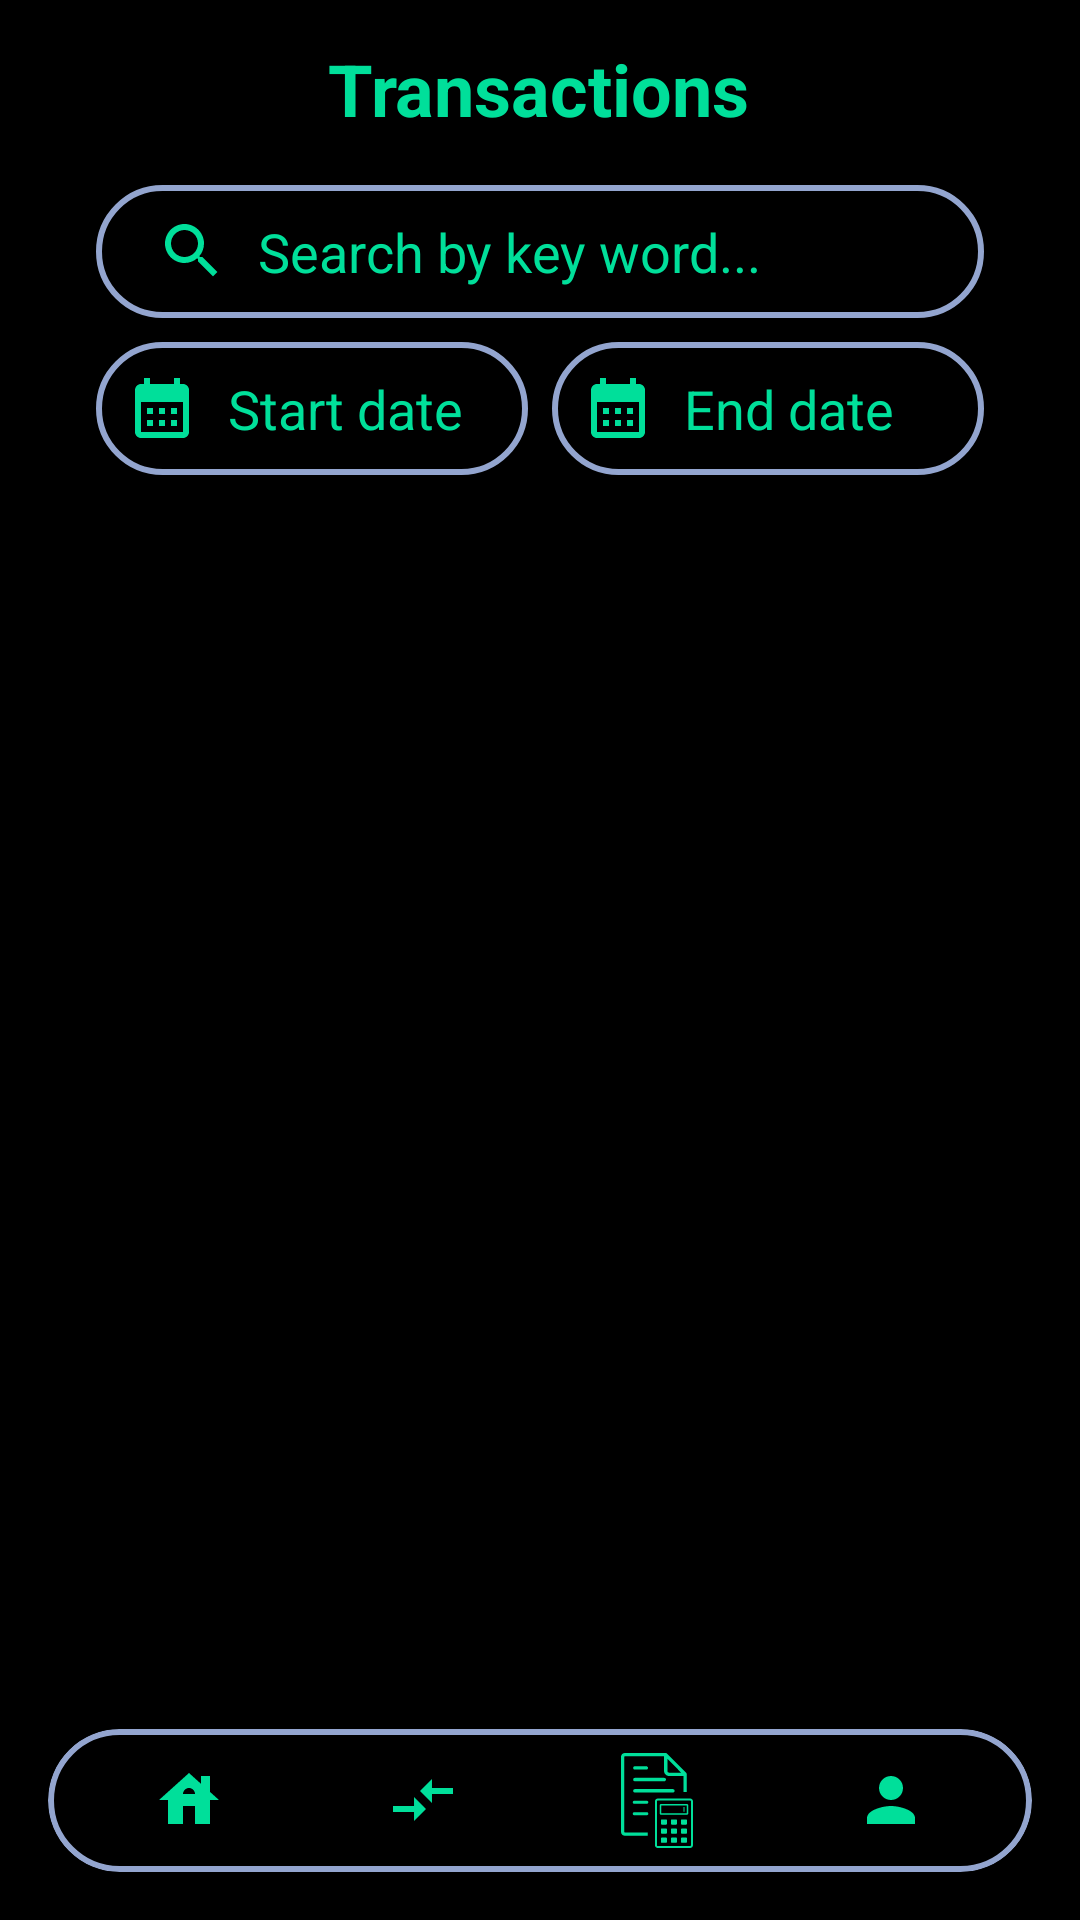

Point at icon controls on the screen. Image size 1080px×1920px, points as point (x, y).
Home: point (189, 1798)
Transactions: point (423, 1800)
User Profile: point (891, 1800)
